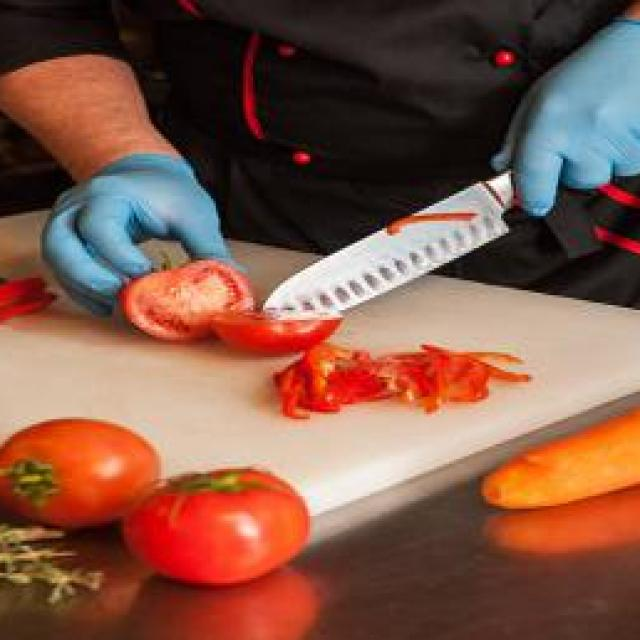knife: (262, 129, 590, 326)
